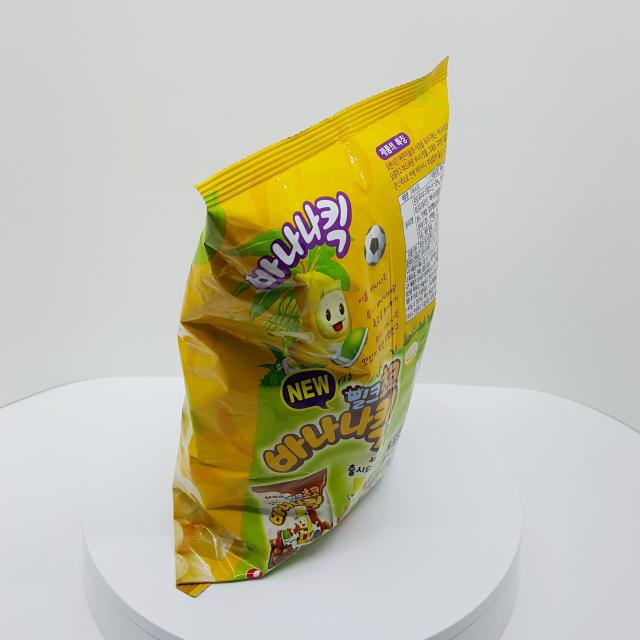-75G: (173, 57, 450, 599)
